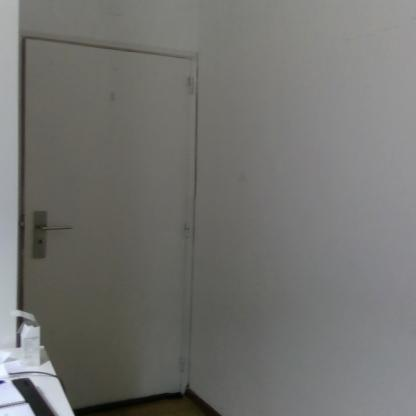door: (22, 39, 192, 399)
hinged: (180, 354, 188, 375), (184, 221, 193, 239), (187, 74, 194, 96)
lever: (38, 225, 76, 232)
